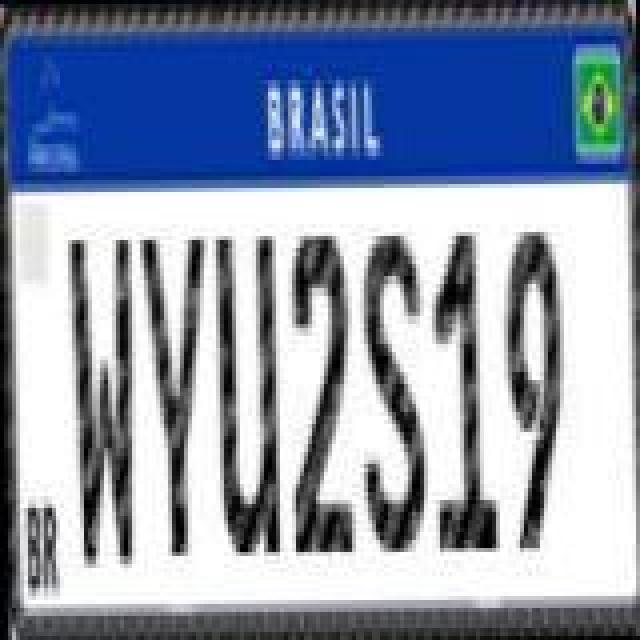1: (430, 228, 502, 556)
2: (286, 228, 358, 556)
9: (500, 224, 568, 560)
S: (358, 226, 430, 558)
U: (216, 230, 284, 562)
W: (66, 234, 138, 574)
Y: (142, 232, 214, 560)
